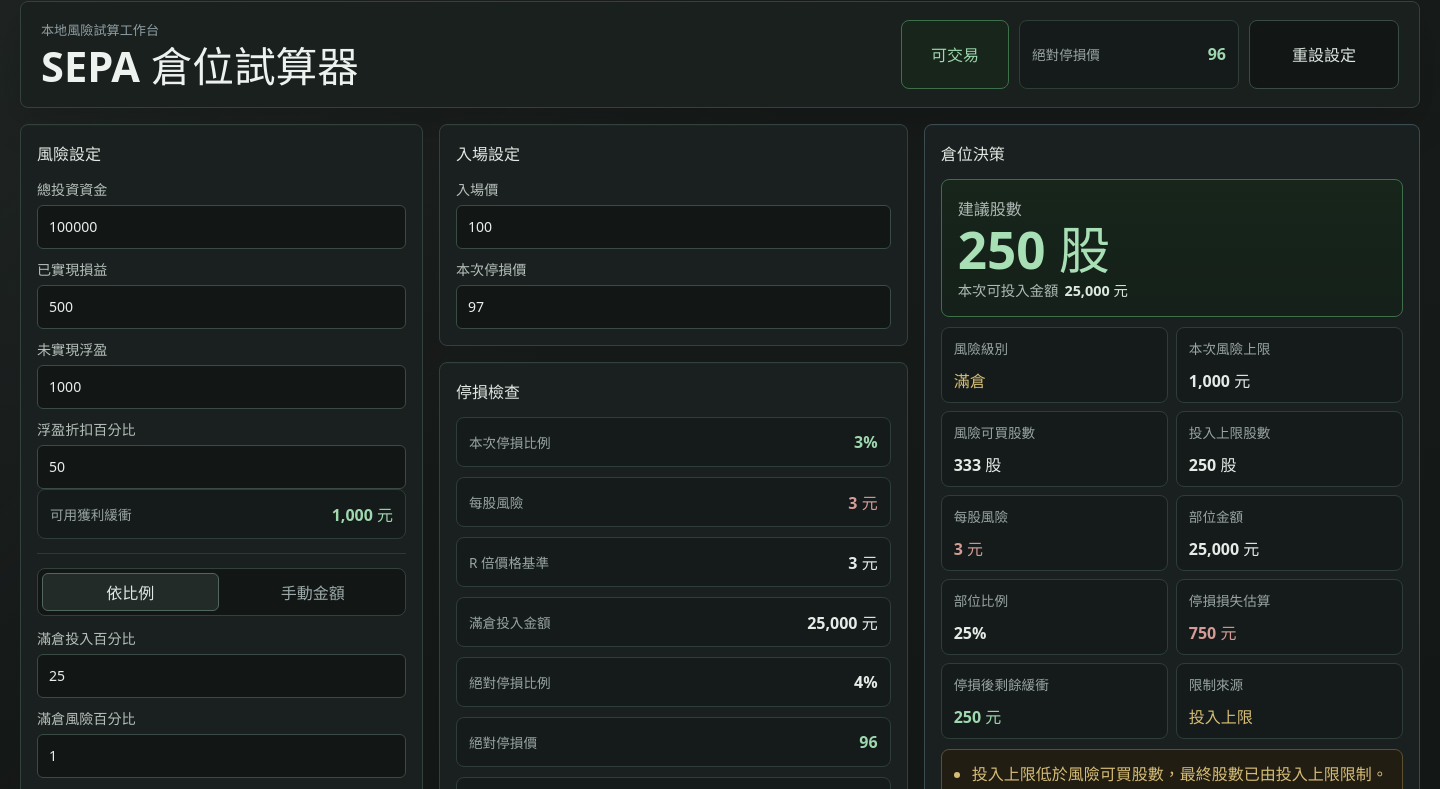
Test: App › 停損後緩衝低於四分之一倉風險時顯示警示
The width and height of the screenshot is (1440, 789).
Replace the text in the number field labelled "已實現損益" with "0": (222, 307) [37,285,406,329]
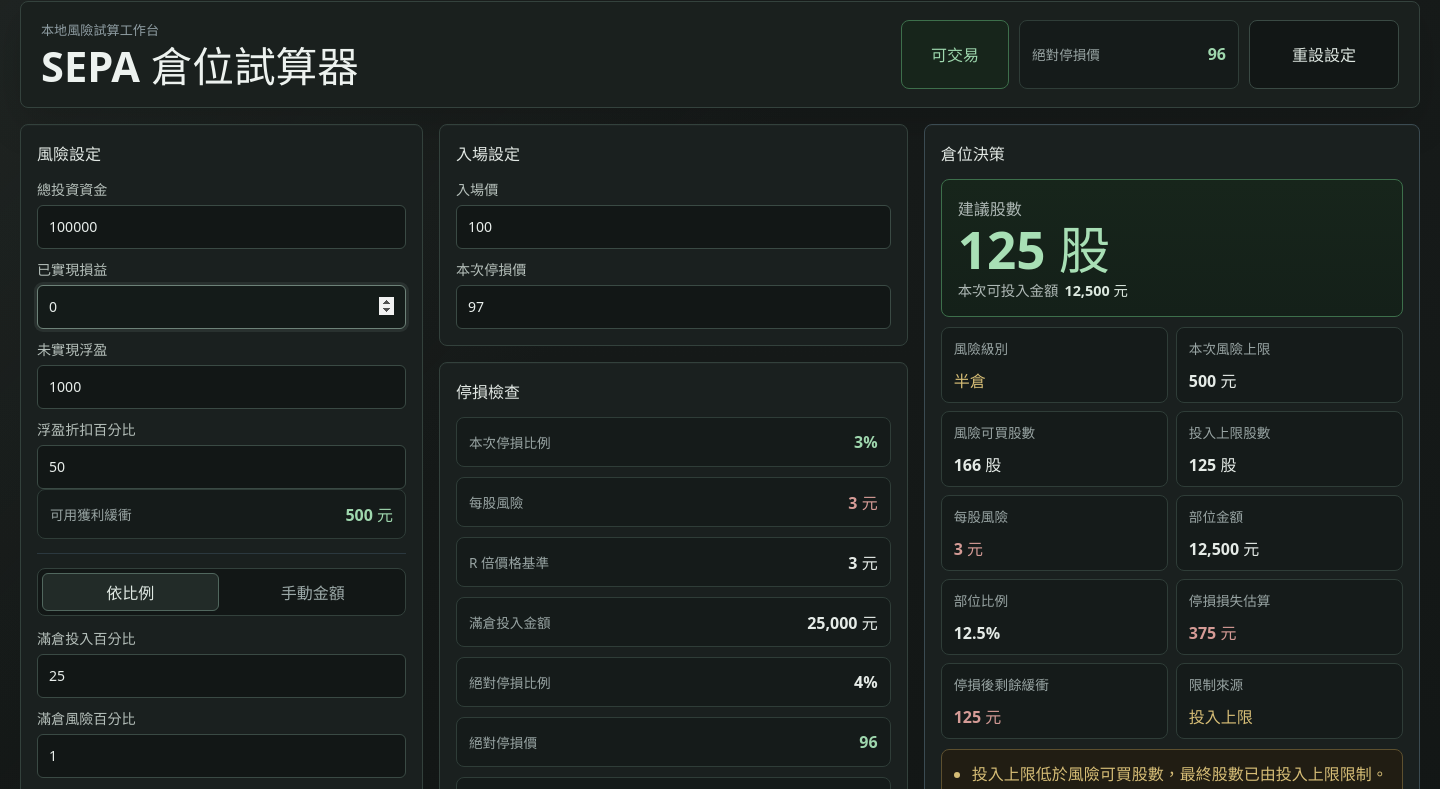
Replace the text in the number field labelled "未實現浮盈" with "0": (222, 387) [37,365,406,409]
(page scrolled)
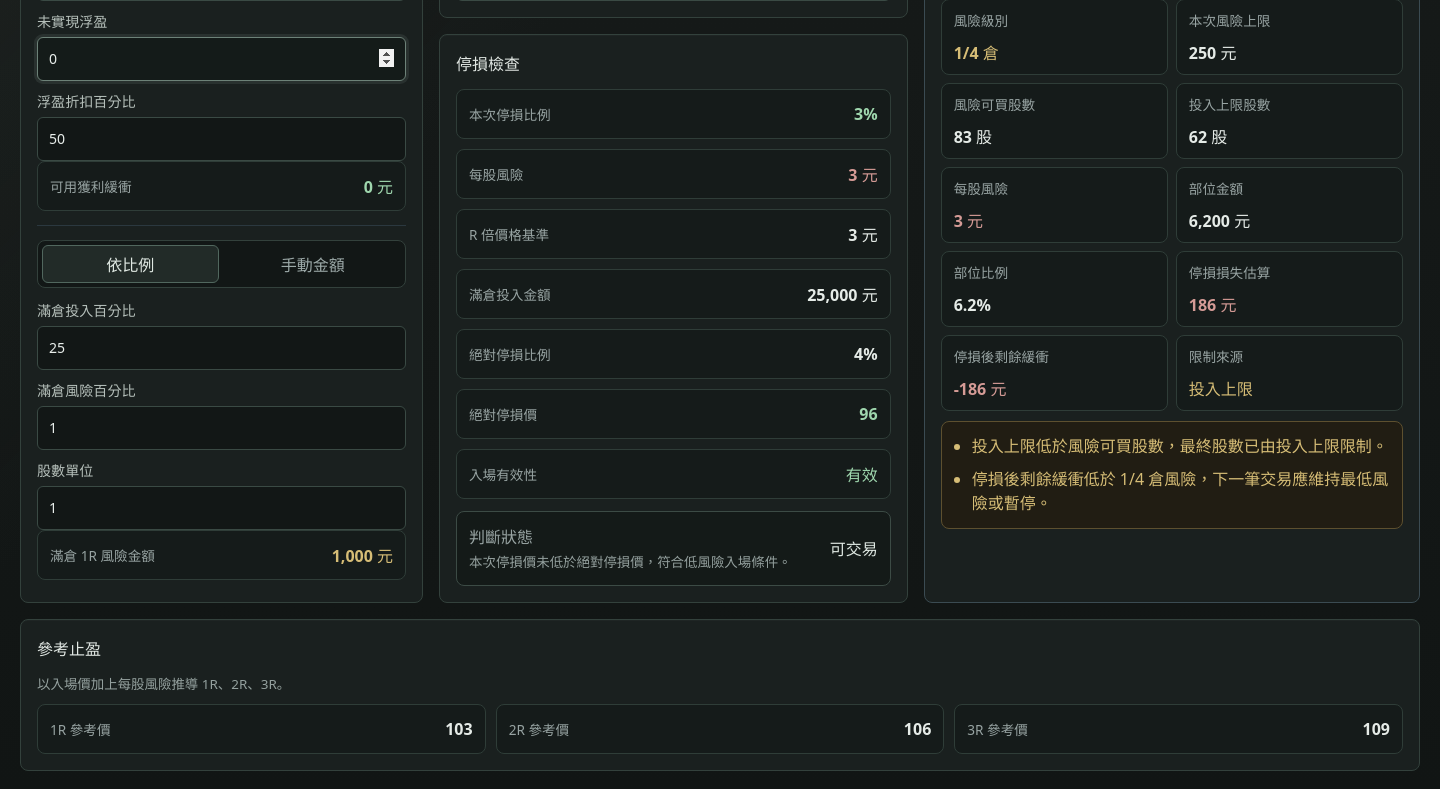
Expected: the list item "停損後剩餘緩衝低於 1/4 倉風險，下一筆交易應維持最低風險或暫停。" is shown, [972,467,1390,516]
